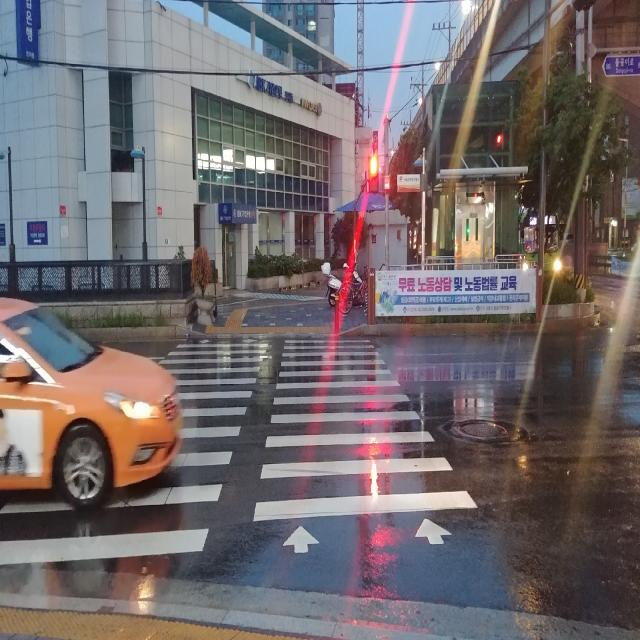빨간불: (368, 154, 378, 193)
횡단보도: (0, 335, 481, 570)
